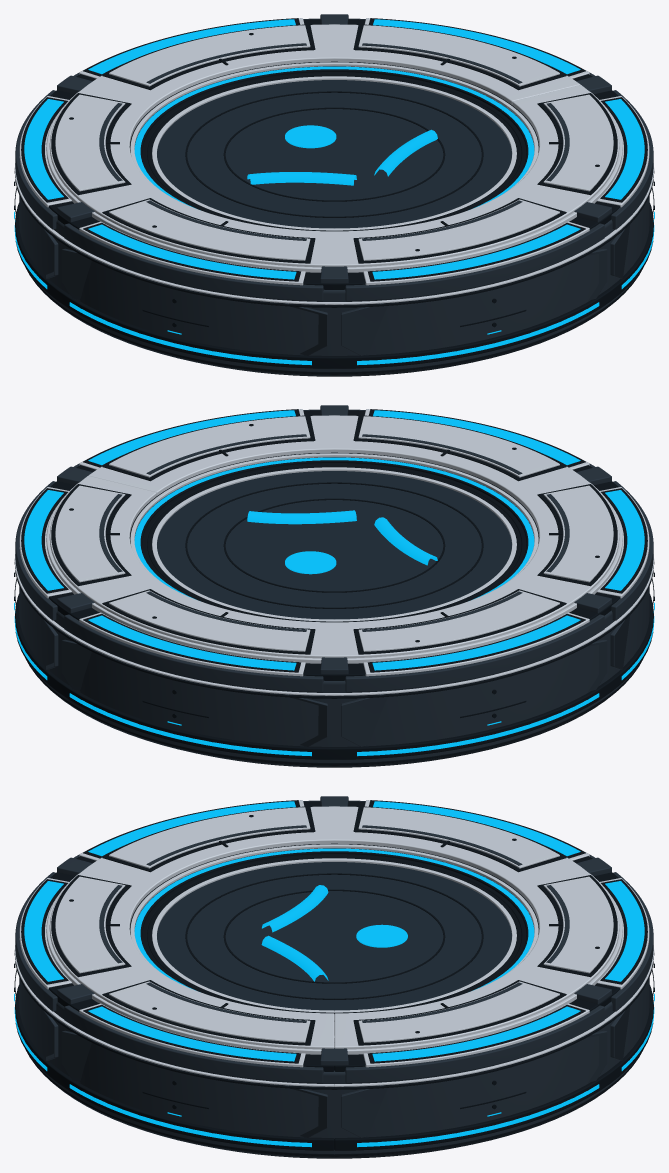
Rendered from Bouncer.fbx.
3 renders of one model, top to bottom at view 1: azimuth 30°, elevation 25°; view 2: azimuth 150°, elevation 25°; view 3: azimuth 270°, elevation 25°, orthographic.
Parts seen in each view (by area): view 1: SM_Puck_Bouncer; view 2: SM_Puck_Bouncer; view 3: SM_Puck_Bouncer.
Part boxes in pixels (x1,y1,x2,y2): SM_Puck_Bouncer: (14,14,654,376); SM_Puck_Bouncer: (14,405,654,767); SM_Puck_Bouncer: (14,796,654,1158).
Bounding box in the file's own units: 86.31 × 86.51 × 16.14.
